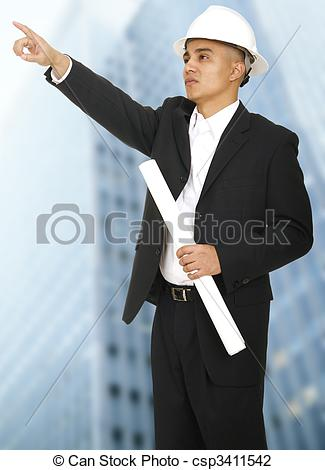Person_wearing_helmet: (164, 2, 269, 67)
